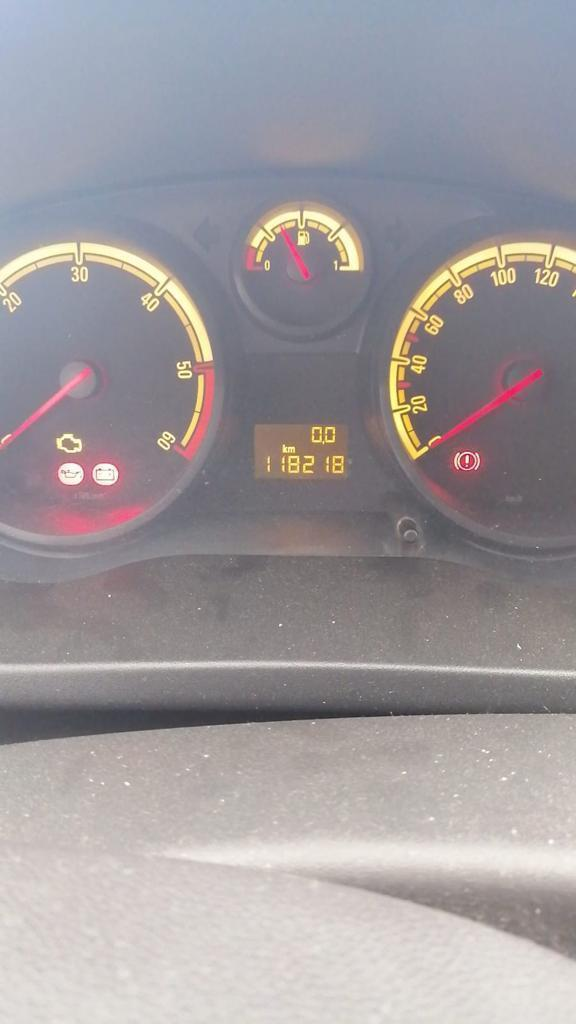,: (322, 439, 324, 444)
0: (324, 426, 336, 443), (311, 426, 322, 444)
1: (266, 454, 271, 473), (325, 454, 329, 472), (281, 455, 285, 472)
2: (302, 454, 313, 473)
8: (331, 454, 344, 474), (287, 455, 300, 473)
X: (288, 444, 295, 454), (280, 443, 287, 453)
odometer: (253, 419, 358, 485)
